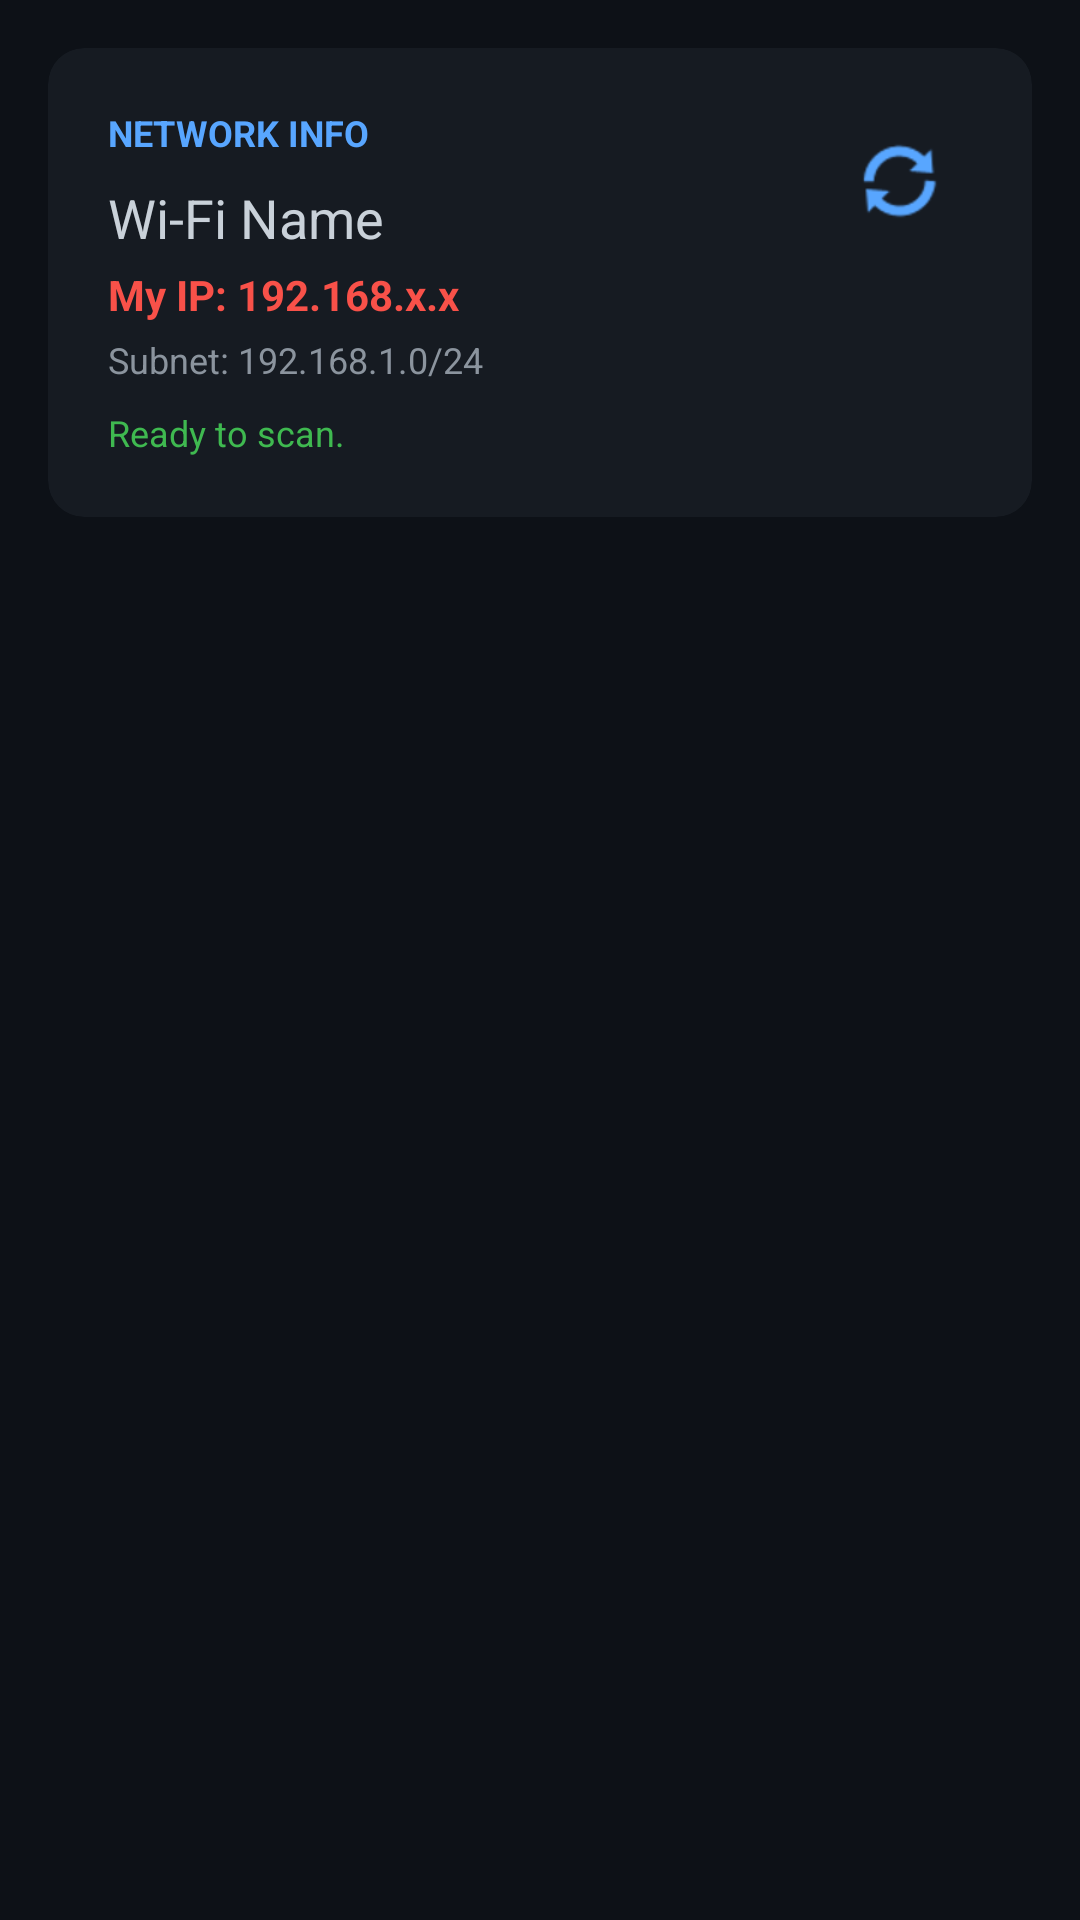

Where icons sit on this 1080 x 1920 app screen, as detection(x1, y1, x2, y2):
popup sync: detection(863, 145, 937, 217)
